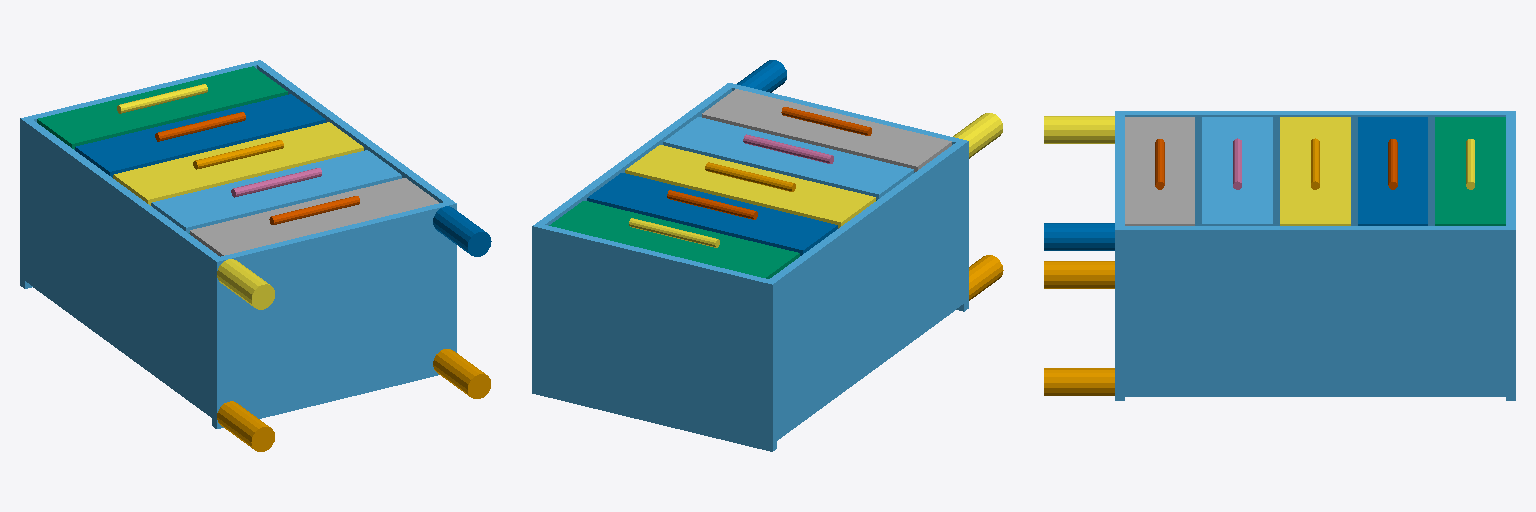
The robot description file, URDF, robot "a_cabinet_with_five_drawers_1":
<?xml version="1.0"?>
<robot name="a_cabinet_with_five_drawers_1">
  <link name="cabinet_leg_1">
    <visual>
      <geometry>
        <mesh filename="obj_parts/group_output/cabinet_leg_1.obj" />
      </geometry>
    </visual>
  </link>
  <link name="drawer_1_frame">
    <visual>
      <geometry>
        <mesh filename="obj_parts/group_output/drawer_1_frame.obj" />
      </geometry>
    </visual>
  </link>
  <link name="drawer_2_frame">
    <visual>
      <geometry>
        <mesh filename="obj_parts/group_output/drawer_2_frame.obj" />
      </geometry>
    </visual>
  </link>
  <link name="drawer_3_front_panel">
    <visual>
      <geometry>
        <mesh filename="obj_parts/group_output/drawer_3_front_panel.obj" />
      </geometry>
    </visual>
  </link>
  <link name="drawer_4_front_panel">
    <visual>
      <geometry>
        <mesh filename="obj_parts/group_output/drawer_4_front_panel.obj" />
      </geometry>
    </visual>
  </link>
  <link name="drawer_1_handle">
    <visual>
      <geometry>
        <mesh filename="obj_parts/group_output/drawer_1_handle.obj" />
      </geometry>
    </visual>
  </link>
  <link name="drawer_2_handle">
    <visual>
      <geometry>
        <mesh filename="obj_parts/group_output/drawer_2_handle.obj" />
      </geometry>
    </visual>
  </link>
  <link name="drawer_3_frame">
    <visual>
      <geometry>
        <mesh filename="obj_parts/group_output/drawer_3_frame.obj" />
      </geometry>
    </visual>
  </link>
  <link name="cabinet_leg_3">
    <visual>
      <geometry>
        <mesh filename="obj_parts/group_output/cabinet_leg_3.obj" />
      </geometry>
    </visual>
  </link>
  <link name="drawer_2_front_panel">
    <visual>
      <geometry>
        <mesh filename="obj_parts/group_output/drawer_2_front_panel.obj" />
      </geometry>
    </visual>
  </link>
  <link name="drawer_5_frame">
    <visual>
      <geometry>
        <mesh filename="obj_parts/group_output/drawer_5_frame.obj" />
      </geometry>
    </visual>
  </link>
  <link name="cabinet_leg_2">
    <visual>
      <geometry>
        <mesh filename="obj_parts/group_output/cabinet_leg_2.obj" />
      </geometry>
    </visual>
  </link>
  <link name="cabinet_leg_4">
    <visual>
      <geometry>
        <mesh filename="obj_parts/group_output/cabinet_leg_4.obj" />
      </geometry>
    </visual>
  </link>
  <link name="drawer_4_handle">
    <visual>
      <geometry>
        <mesh filename="obj_parts/group_output/drawer_4_handle.obj" />
      </geometry>
    </visual>
  </link>
  <link name="drawer_4_frame">
    <visual>
      <geometry>
        <mesh filename="obj_parts/group_output/drawer_4_frame.obj" />
      </geometry>
    </visual>
  </link>
  <link name="drawer_1_front_panel">
    <visual>
      <geometry>
        <mesh filename="obj_parts/group_output/drawer_1_front_panel.obj" />
      </geometry>
    </visual>
  </link>
  <link name="drawer_3_handle">
    <visual>
      <geometry>
        <mesh filename="obj_parts/group_output/drawer_3_handle.obj" />
      </geometry>
    </visual>
  </link>
  <link name="cabinet_frame">
    <visual>
      <geometry>
        <mesh filename="obj_parts/group_output/cabinet_frame.obj" />
      </geometry>
    </visual>
  </link>
  <link name="drawer_5_front_panel">
    <visual>
      <geometry>
        <mesh filename="obj_parts/group_output/drawer_5_front_panel.obj" />
      </geometry>
    </visual>
  </link>
  <link name="drawer_5_handle">
    <visual>
      <geometry>
        <mesh filename="obj_parts/group_output/drawer_5_handle.obj" />
      </geometry>
    </visual>
  </link>
  <joint name="cabinet_frame_to_leg_1" type="fixed">
    <parent link="cabinet_frame" />
    <child link="cabinet_leg_1" />
    
    
  </joint>
  <joint name="cabinet_frame_to_leg_2" type="fixed">
    <parent link="cabinet_frame" />
    <child link="cabinet_leg_2" />
    
    
  </joint>
  <joint name="cabinet_frame_to_leg_3" type="fixed">
    <parent link="cabinet_frame" />
    <child link="cabinet_leg_3" />
    
    
  </joint>
  <joint name="cabinet_frame_to_leg_4" type="fixed">
    <parent link="cabinet_frame" />
    <child link="cabinet_leg_4" />
    
    
  </joint>
  <joint name="drawer_1_slide" type="prismatic">
    <parent link="cabinet_frame" />
    <child link="drawer_1_frame" />
    <axis xyz="0 0 1" />
    <limit lower="0.0" upper="2.0" effort="20.0" velocity="0.2" />
  </joint>
  <joint name="drawer_1_front_panel_attach" type="fixed">
    <parent link="drawer_1_frame" />
    <child link="drawer_1_front_panel" />
    
    
  </joint>
  <joint name="drawer_1_handle_attach" type="fixed">
    <parent link="drawer_1_front_panel" />
    <child link="drawer_1_handle" />
    
    
  </joint>
  <joint name="drawer_2_slide" type="prismatic">
    <parent link="cabinet_frame" />
    <child link="drawer_2_frame" />
    <axis xyz="0 0 1" />
    <limit lower="0.0" upper="2.0" effort="20.0" velocity="0.2" />
  </joint>
  <joint name="drawer_2_front_panel_attach" type="fixed">
    <parent link="drawer_2_frame" />
    <child link="drawer_2_front_panel" />
    
    
  </joint>
  <joint name="drawer_2_handle_attach" type="fixed">
    <parent link="drawer_2_front_panel" />
    <child link="drawer_2_handle" />
    
    
  </joint>
  <joint name="drawer_3_slide" type="prismatic">
    <parent link="cabinet_frame" />
    <child link="drawer_3_frame" />
    <axis xyz="0 0 1" />
    <limit lower="0.0" upper="2.0" effort="20.0" velocity="0.2" />
  </joint>
  <joint name="drawer_3_front_panel_attach" type="fixed">
    <parent link="drawer_3_frame" />
    <child link="drawer_3_front_panel" />
    
    
  </joint>
  <joint name="drawer_3_handle_attach" type="fixed">
    <parent link="drawer_3_front_panel" />
    <child link="drawer_3_handle" />
    
    
  </joint>
  <joint name="drawer_4_slide" type="prismatic">
    <parent link="cabinet_frame" />
    <child link="drawer_4_frame" />
    <axis xyz="0 0 1" />
    <limit lower="0.0" upper="2.0" effort="20.0" velocity="0.2" />
  </joint>
  <joint name="drawer_4_front_panel_attach" type="fixed">
    <parent link="drawer_4_frame" />
    <child link="drawer_4_front_panel" />
    
    
  </joint>
  <joint name="drawer_4_handle_attach" type="fixed">
    <parent link="drawer_4_front_panel" />
    <child link="drawer_4_handle" />
    
    
  </joint>
  <joint name="drawer_5_slide" type="prismatic">
    <parent link="cabinet_frame" />
    <child link="drawer_5_frame" />
    <axis xyz="0 0 1" />
    <limit lower="0.0" upper="2.0" effort="20.0" velocity="0.2" />
  </joint>
  <joint name="drawer_5_front_panel_attach" type="fixed">
    <parent link="drawer_5_frame" />
    <child link="drawer_5_front_panel" />
    
    
  </joint>
  <joint name="drawer_5_handle_attach" type="fixed">
    <parent link="drawer_5_front_panel" />
    <child link="drawer_5_handle" />
    
    
  </joint>
</robot>

--- What the picture shows (computed from the rendered views, not written in the file) ---
Views: 3 orthographic renders of the robot side by side, from view 1: azimuth 30°, elevation 25°; view 2: azimuth 150°, elevation 25°; view 3: azimuth 270°, elevation 25°.
Robot: a_cabinet_with_five_drawers_1 — 20 links, 19 joints (5 prismatic, 14 fixed); root link cabinet_frame; default pose: every joint at zero.
Links seen in each view (by area): view 1: cabinet_frame, drawer_3_front_panel, drawer_4_front_panel, drawer_2_front_panel, drawer_5_front_panel, drawer_1_front_panel, cabinet_leg_4, cabinet_leg_1, cabinet_leg_2, cabinet_leg_3, drawer_5_handle, drawer_2_handle (+3 smaller); view 2: cabinet_frame, drawer_2_front_panel, drawer_3_front_panel, drawer_1_front_panel, drawer_4_front_panel, drawer_5_front_panel, cabinet_leg_2, cabinet_leg_1, cabinet_leg_4, drawer_4_handle, drawer_5_handle, drawer_2_handle (+2 smaller); view 3: cabinet_frame, drawer_5_front_panel, drawer_2_front_panel, drawer_3_front_panel, drawer_4_front_panel, drawer_1_front_panel, cabinet_leg_1, cabinet_leg_3, cabinet_leg_2, cabinet_leg_4.
Link boxes in pixels (x1,y1,x2,y2): cabinet_frame: (20, 60, 456, 428); drawer_3_front_panel: (113, 122, 363, 205); drawer_4_front_panel: (75, 94, 325, 177); drawer_2_front_panel: (151, 150, 401, 233); drawer_5_front_panel: (37, 66, 287, 149); drawer_1_front_panel: (190, 178, 438, 256); cabinet_leg_4: (433, 206, 491, 256); cabinet_leg_1: (217, 401, 274, 451); cabinet_leg_2: (217, 259, 274, 309); cabinet_leg_3: (433, 349, 490, 398); drawer_5_handle: (117, 84, 207, 113); drawer_2_handle: (231, 168, 321, 197); cabinet_frame: (532, 83, 968, 451); drawer_2_front_panel: (663, 117, 913, 199); drawer_3_front_panel: (625, 145, 875, 227); drawer_1_front_panel: (702, 89, 951, 171); drawer_4_front_panel: (587, 173, 837, 255); drawer_5_front_panel: (549, 201, 799, 278); cabinet_leg_2: (953, 113, 1002, 158); cabinet_leg_1: (969, 255, 1003, 300); cabinet_leg_4: (737, 60, 786, 92); drawer_4_handle: (667, 190, 757, 219); drawer_5_handle: (629, 218, 719, 247); drawer_2_handle: (743, 134, 833, 163); cabinet_frame: (1115, 111, 1515, 400); drawer_5_front_panel: (1435, 117, 1505, 225); drawer_2_front_panel: (1202, 117, 1272, 225); drawer_3_front_panel: (1280, 117, 1350, 225); drawer_4_front_panel: (1358, 117, 1427, 225); drawer_1_front_panel: (1125, 117, 1194, 225); cabinet_leg_1: (1044, 261, 1114, 288); cabinet_leg_3: (1044, 368, 1114, 395); cabinet_leg_2: (1044, 116, 1114, 143); cabinet_leg_4: (1044, 223, 1114, 250).
Size in the robot's own frame: 6 by 10 by 4.25 metres.
20 mesh visuals loaded from 20 distinct referenced files (20 OBJ).
